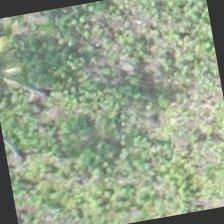Kelapa_Sawit: (0, 12, 48, 109)
